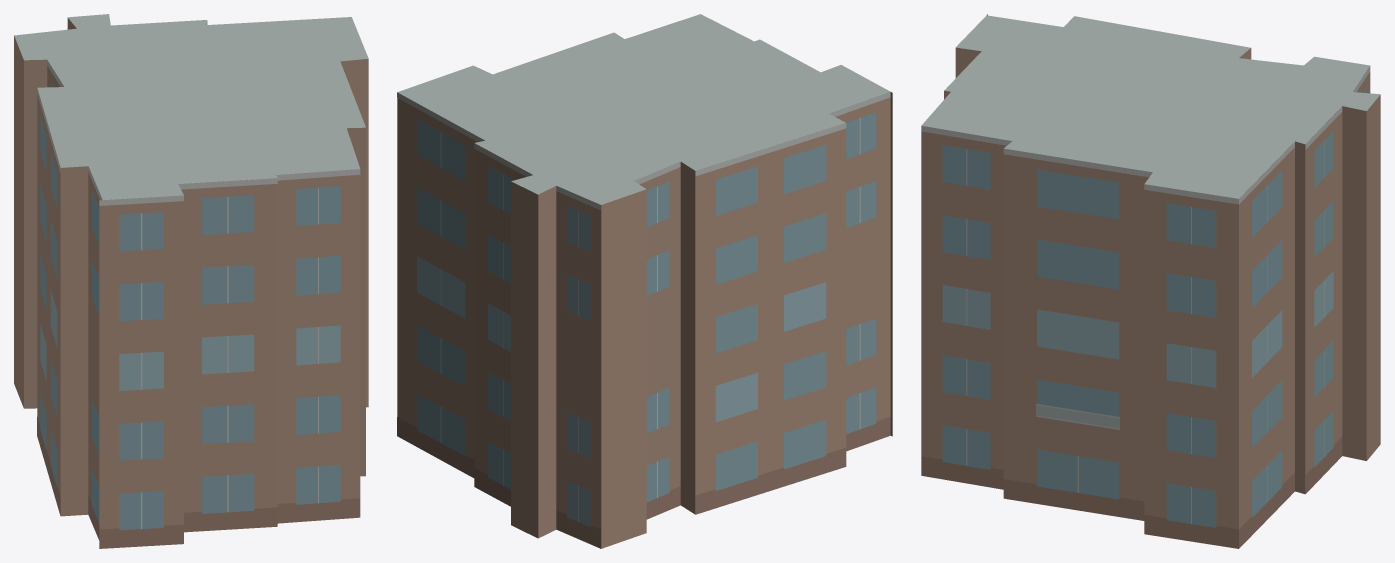
Rendered from survey-upis-32951291.glb.
The picture shows the model from 3 angles, left to right: view 1: azimuth 30°, elevation 25°; view 2: azimuth 150°, elevation 25°; view 3: azimuth 270°, elevation 25°; orthographic projection.
Parts seen in each view (by area): view 1: survey-upis-32951291.tmp; view 2: survey-upis-32951291.tmp; view 3: survey-upis-32951291.tmp.
Boxes of the visible parts, <box> form: survey-upis-32951291.tmp: <box>14,14,368,548</box>; survey-upis-32951291.tmp: <box>397,14,892,548</box>; survey-upis-32951291.tmp: <box>921,14,1380,548</box>.
Bounding box in the file's own units: 17.17 × 15.15 × 18.03.
